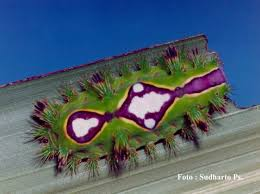Pest! (nettle_caterpillar): (27, 59, 233, 171)
